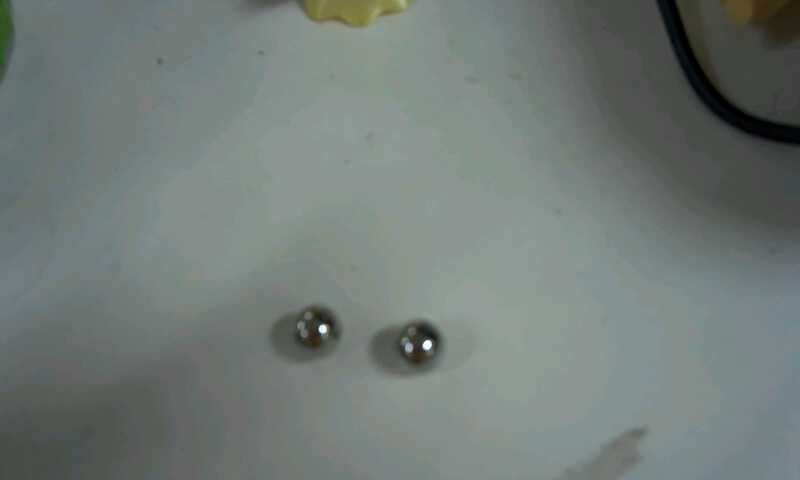steelball: (282, 296, 353, 363), (390, 309, 452, 377)
